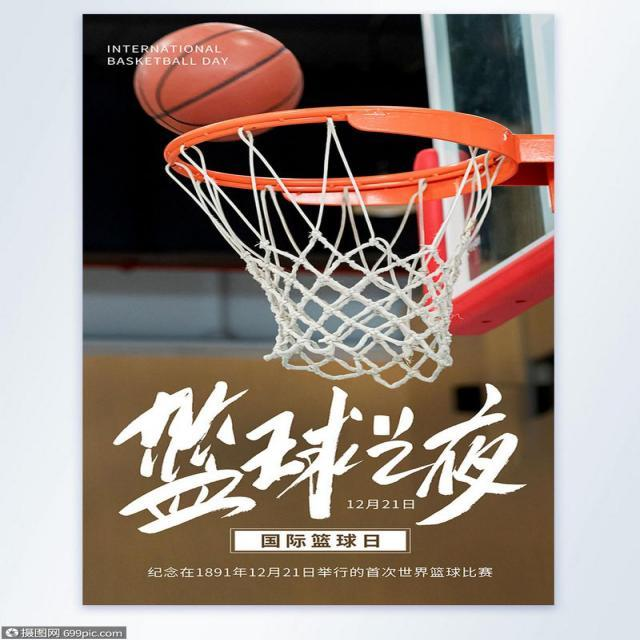rim: (131, 23, 303, 129)
